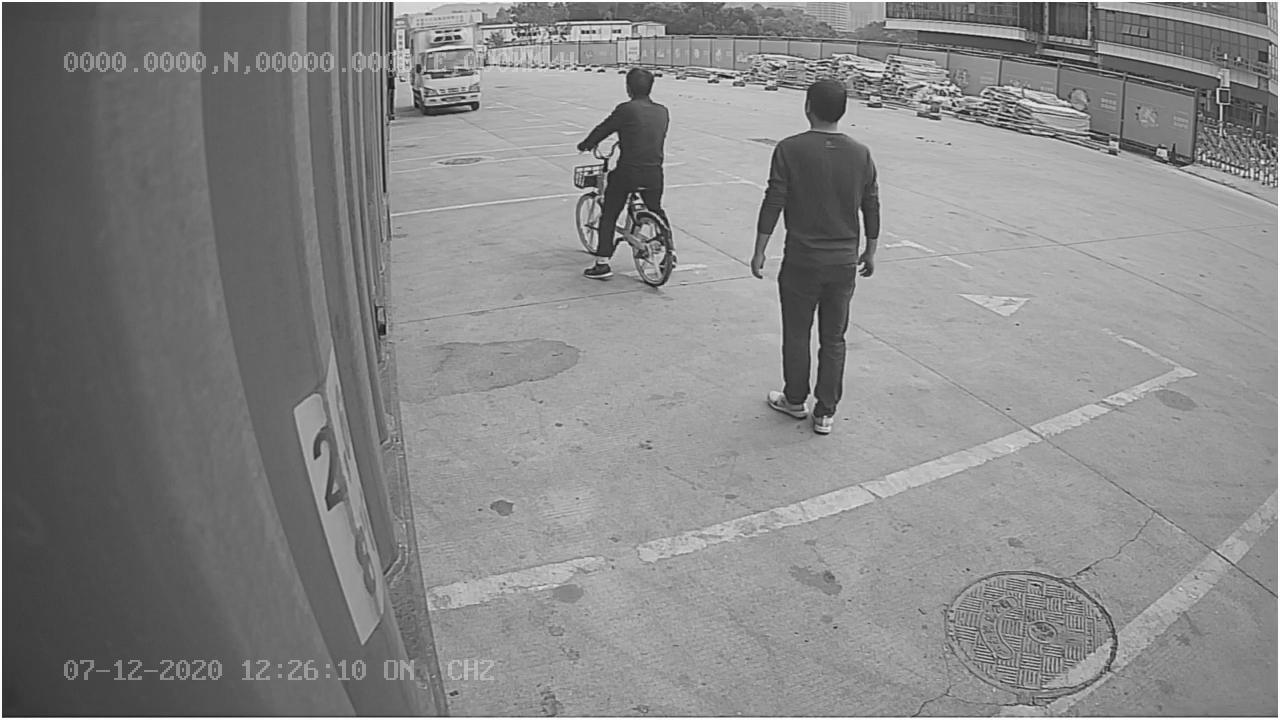person: (744, 76, 888, 439)
